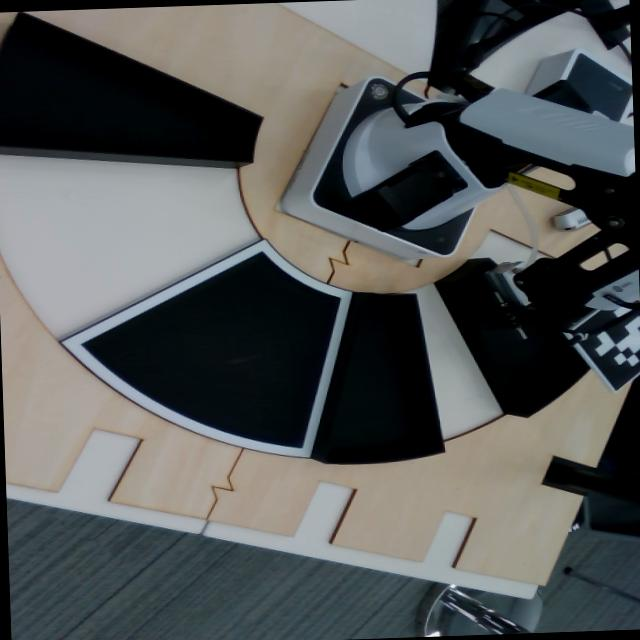board: (58, 235, 354, 470)
box: (0, 11, 268, 239), (420, 242, 588, 420), (303, 283, 443, 466)
